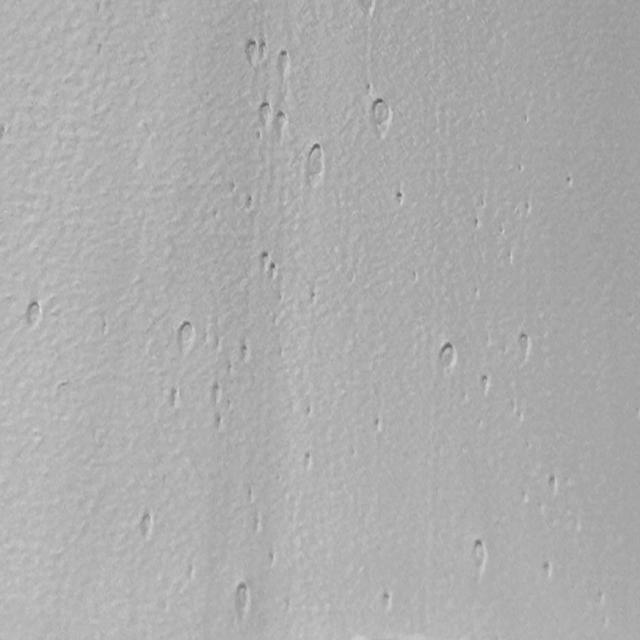pin holes: (20, 298, 46, 332), (231, 582, 253, 622), (370, 98, 394, 132), (305, 146, 327, 182), (468, 537, 489, 573), (176, 320, 197, 351), (437, 342, 458, 373), (136, 511, 156, 542), (242, 37, 261, 66), (515, 330, 532, 361), (277, 52, 293, 78), (256, 102, 273, 126), (477, 373, 494, 397), (545, 473, 563, 495), (273, 111, 288, 136), (239, 341, 255, 364), (166, 388, 182, 411), (540, 561, 556, 583), (378, 589, 394, 610), (259, 250, 274, 270), (213, 412, 227, 432), (258, 41, 271, 62), (212, 383, 224, 405), (243, 193, 256, 210), (252, 510, 262, 532), (225, 358, 236, 378), (303, 450, 315, 468), (395, 192, 408, 208), (371, 415, 384, 431), (472, 217, 485, 233), (268, 262, 279, 280), (214, 332, 222, 356), (268, 547, 275, 570), (506, 250, 514, 270), (246, 487, 254, 506), (566, 174, 576, 188), (228, 182, 238, 196), (309, 291, 317, 307), (524, 202, 532, 217), (412, 269, 419, 286), (255, 130, 263, 142), (306, 403, 312, 417), (523, 110, 528, 124), (498, 227, 504, 237)
